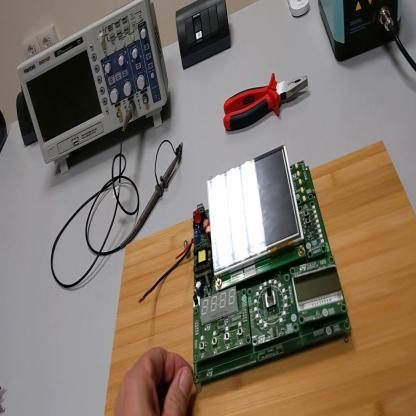hand: (115, 348, 196, 414)
low voltage board: (139, 145, 353, 383)
oscilloscope: (17, 2, 167, 181)
oscilloscope probe tip: (126, 154, 178, 247)
pliers: (226, 71, 309, 134)
socket: (16, 88, 40, 149), (1, 105, 10, 154)
welder station: (317, 2, 404, 63)
working area: (107, 141, 416, 416)
